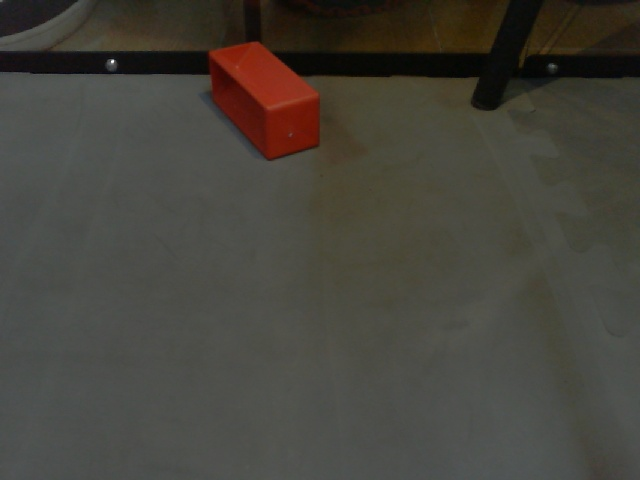RedSample: (207, 40, 326, 161)
